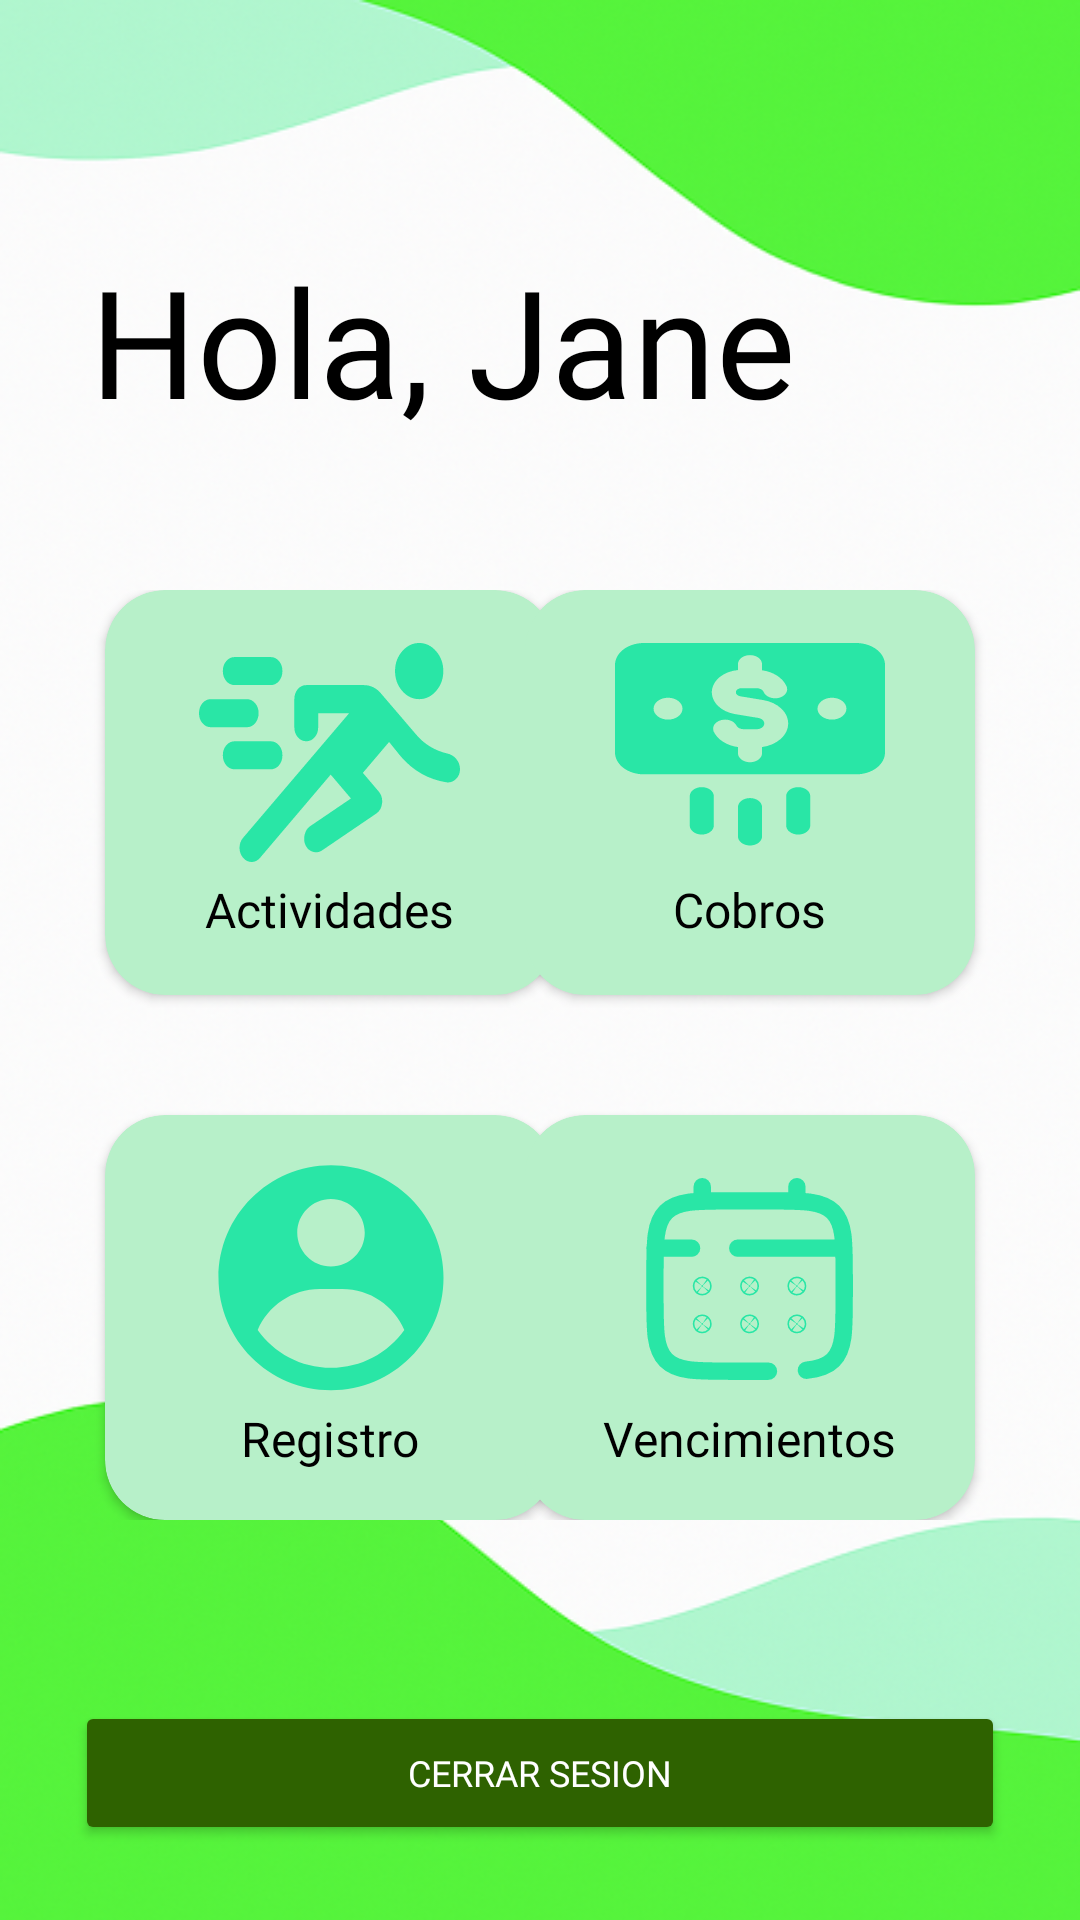

Icon click points for this 1080 × 1920 phone screenshot, format point (x, y):
calendar: point (749, 1279)
people: point (331, 1278)
